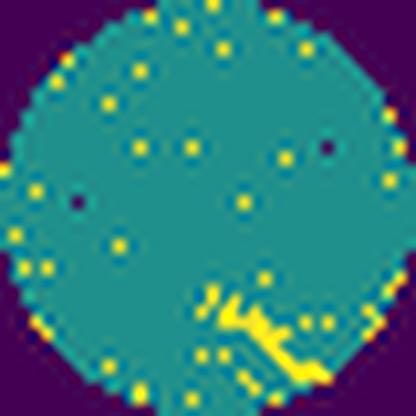Scratch: (212, 293, 334, 388)
